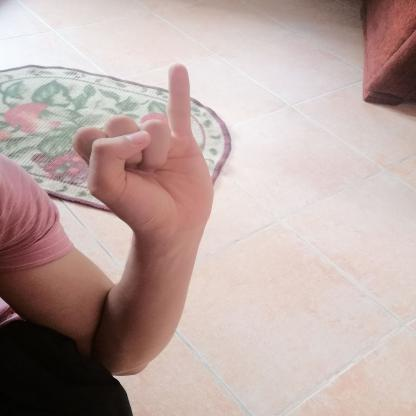MEEM: (48, 55, 234, 245)
